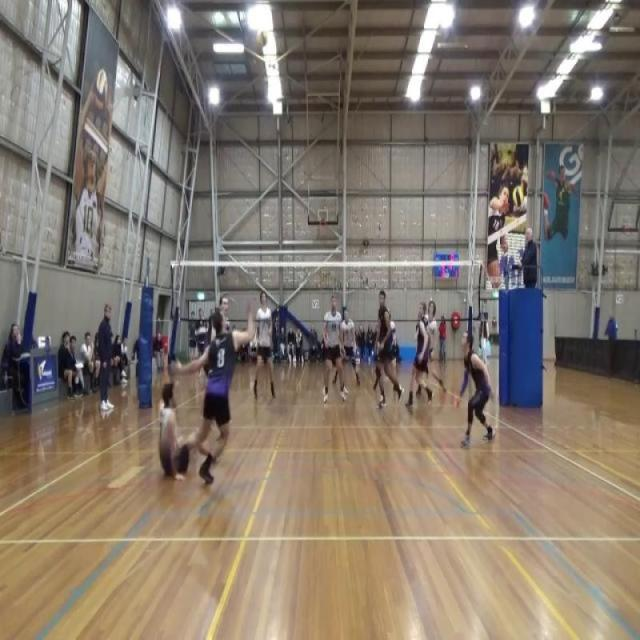volleyball: (94, 67, 109, 111), (254, 26, 269, 49), (512, 185, 525, 209)
